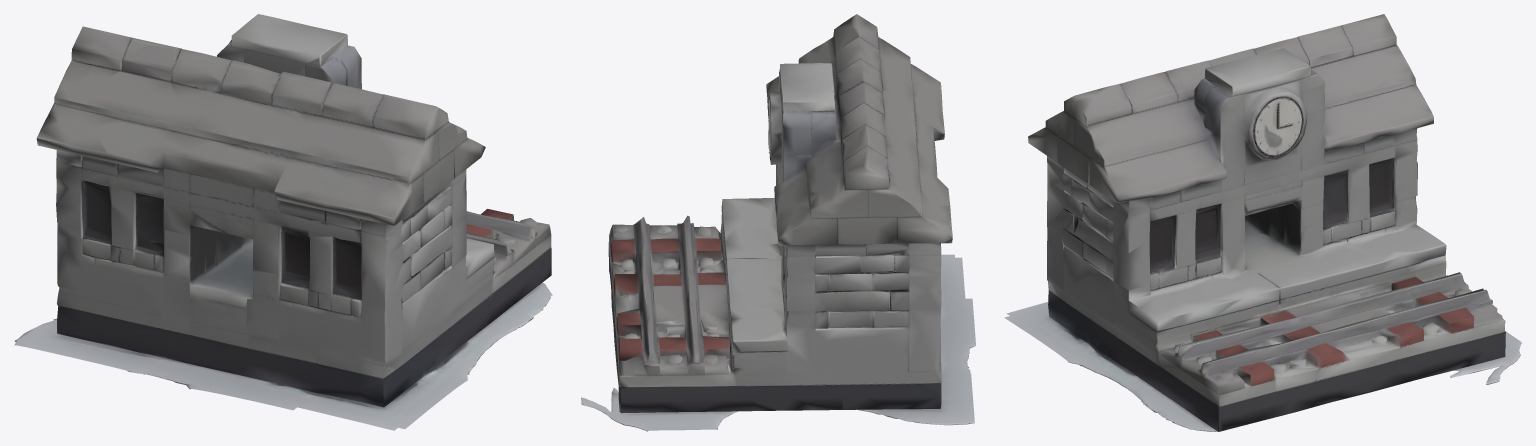
Rendered from hakata_st.glb.
The picture shows the model from 3 angles, left to right: view 1: azimuth 30°, elevation 25°; view 2: azimuth 150°, elevation 25°; view 3: azimuth 270°, elevation 25°; orthographic projection. The views are drawn at different scales.
Parts seen in each view (by area): view 1: tripo_node_e110c96c-e4aa-4d36-8731-1d3e15046d6c; view 2: tripo_node_e110c96c-e4aa-4d36-8731-1d3e15046d6c; view 3: tripo_node_e110c96c-e4aa-4d36-8731-1d3e15046d6c.
Part boxes in pixels (x1,y1,x2,y2): tripo_node_e110c96c-e4aa-4d36-8731-1d3e15046d6c: [14, 14, 552, 430]; tripo_node_e110c96c-e4aa-4d36-8731-1d3e15046d6c: [581, 14, 975, 431]; tripo_node_e110c96c-e4aa-4d36-8731-1d3e15046d6c: [1004, 14, 1521, 431].
Bounding box in the file's own units: 1.21 × 0.71 × 1.27.
1 material, 1 textured.
